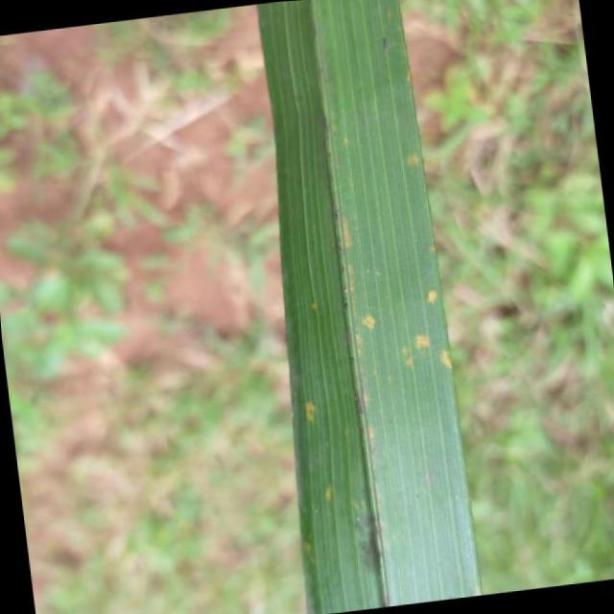Kalium: (253, 3, 481, 603)
